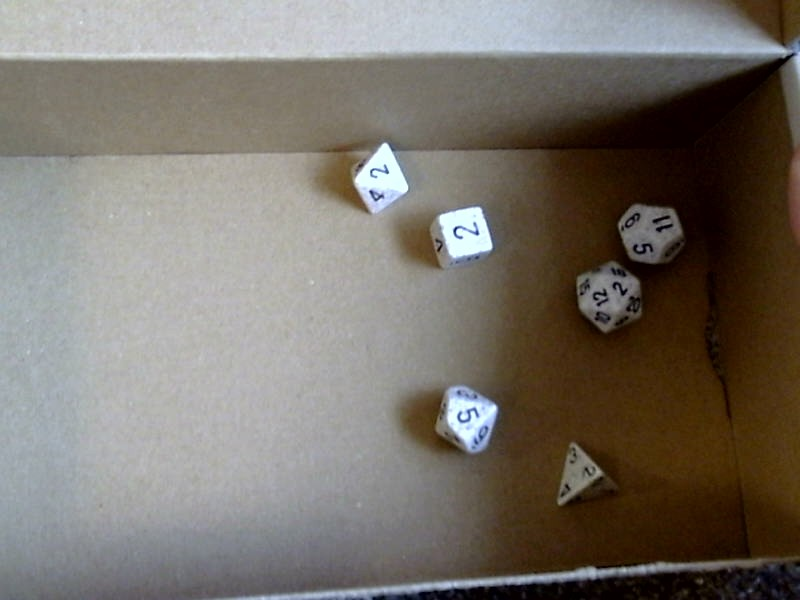d10 5: (431, 381, 500, 461)
d12 11: (616, 192, 705, 268)
d20 2: (564, 258, 649, 339)
d4 2: (550, 432, 618, 518)
d6 2: (426, 201, 501, 276)
d8 2: (345, 139, 412, 225)
